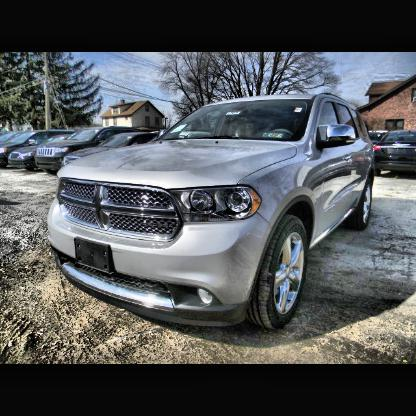Dodge Durango SUV 2012: (46, 92, 379, 335)
